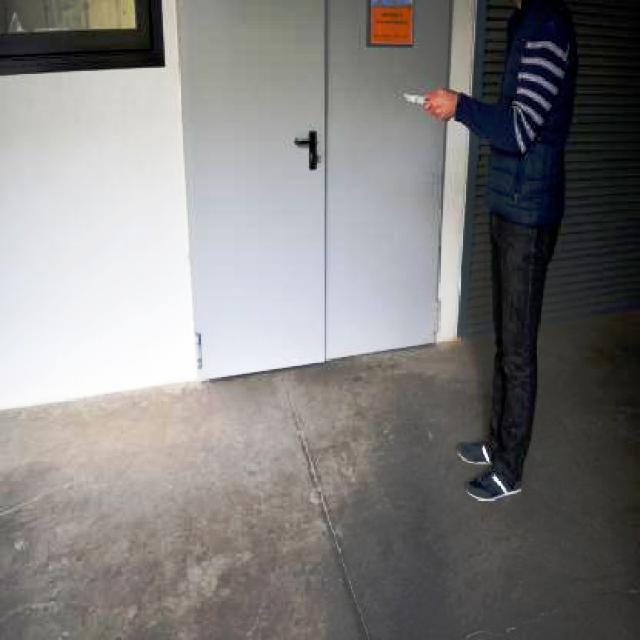Knife: (391, 76, 457, 131)
